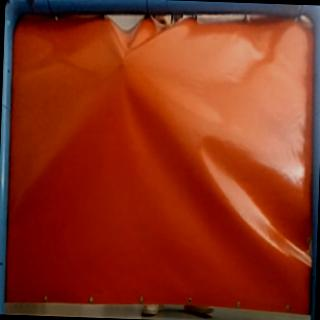Hit-hRxx: (118, 50, 132, 70)
